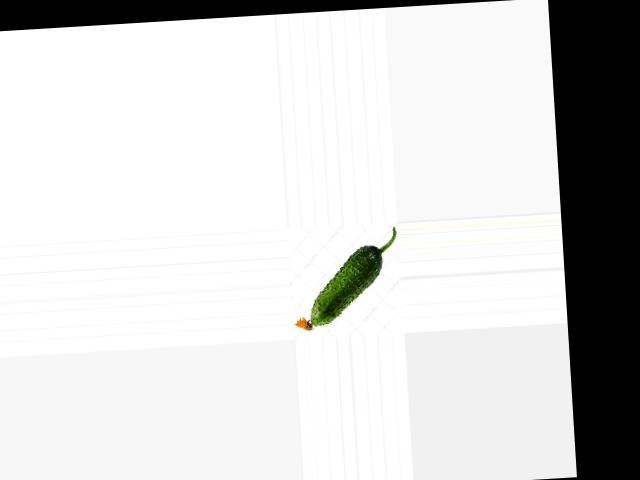cucumber: (288, 227, 401, 331)
